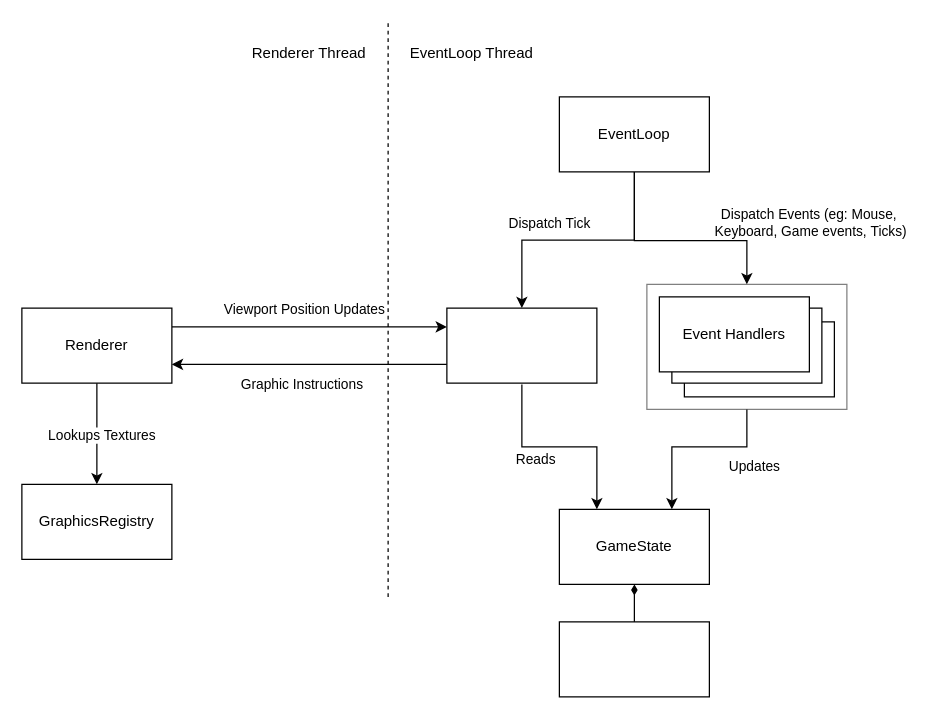
Image size: 929x719. Some labels were removed from this diagram. Here are the shapes that lost their labels. From the top down, the centre of each, then its label:
(x=521, y=345): GraphicsInstructor
(x=633, y=659): entt
